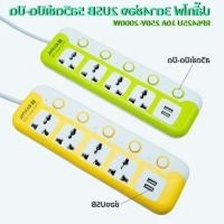three_eye_plug: (9, 81, 191, 219), (37, 23, 205, 142)
